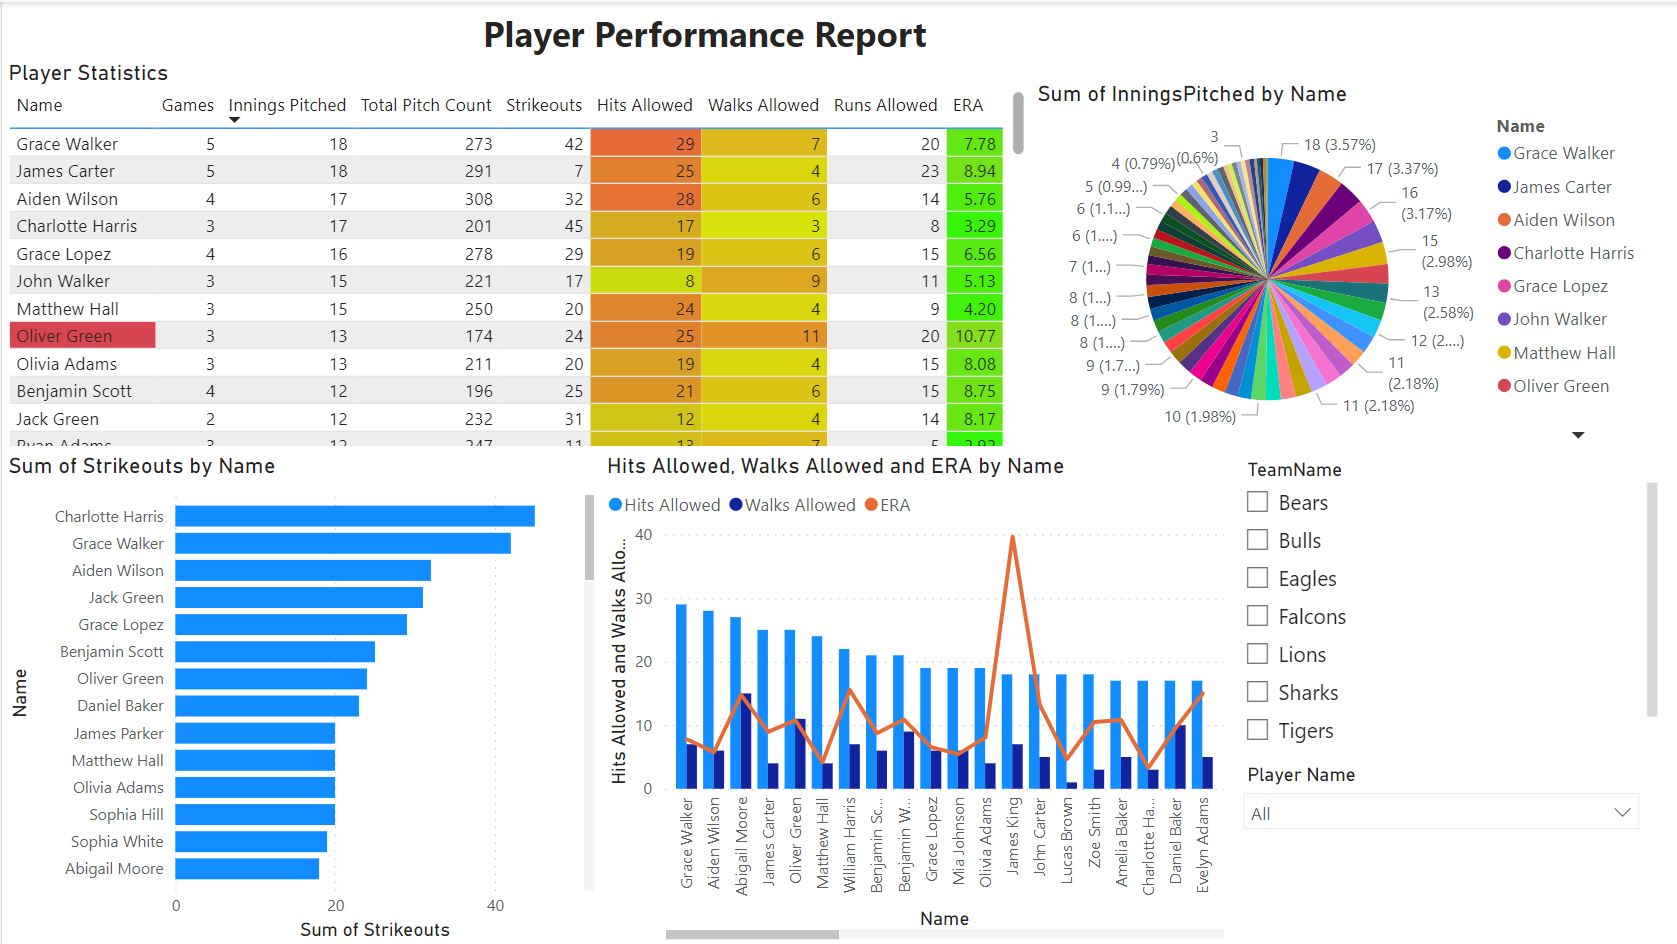

Layout of this report page (visuals, bound fields, positions):
{"tool":"powerbi","page":{"name":"Player Performance Report","canvas":[1280,720],"ordinal":0},"visuals":[{"type":"textbox","box":[192.4,0,688.3,119.1],"z":0},{"type":"tableEx","title":"Player Statistics","fields":{"Values":["Players.Name","Statistics.GamesPlayed","Statistics.InningsPitched","Statistics.PitchCount","Statistics.Strikeouts","Statistics.HitsAllowed","Statistics.WalksAllowed","Statistics.RunsAllowed","Statistics.ERA"]},"box":[0,43.5,785.6,300.1],"z":1000},{"type":"clusteredBarChart","fields":{"Y":["Statistics.Strikeouts"],"Category":["Players.Name"]},"box":[0,343.6,457,376.8],"z":2000},{"type":"lineClusteredColumnComboChart","fields":{"Category":["Players.Name"],"Y2":["Statistics.ERA"],"Y":["Statistics.HitsAllowed","Statistics.WalksAllowed"]},"box":[457,343.6,481,376.8],"z":3000},{"type":"pieChart","fields":{"Category":["Players.Name"],"Y":["Statistics.InningsPitched"]},"box":[785.6,59.6,483.3,284],"z":4000},{"type":"slicer","fields":{"Values":["Players.Name"]},"box":[938,576.1,321.8,144.3],"z":5000},{"type":"slicer","fields":{"Values":["Teams.TeamName"]},"box":[938,344,331,232],"z":6000}]}

Visuals, with their boxes in screenshot pixels (x1, y1, x2, y2), scaled from the page's 1280x720 canvas onto the 1677x944 screenshot:
textbox: 252/0/1154/156
"Player Statistics" tableEx: 0/57/1029/450
clusteredBarChart - Statistics.Strikeouts x Players.Name: 0/450/599/943
lineClusteredColumnComboChart - Players.Name x Statistics.ERA: 599/450/1229/943
pieChart - Players.Name x Statistics.InningsPitched: 1029/78/1662/450
slicer - Players.Name: 1229/755/1651/943
slicer - Teams.TeamName: 1229/451/1663/755
